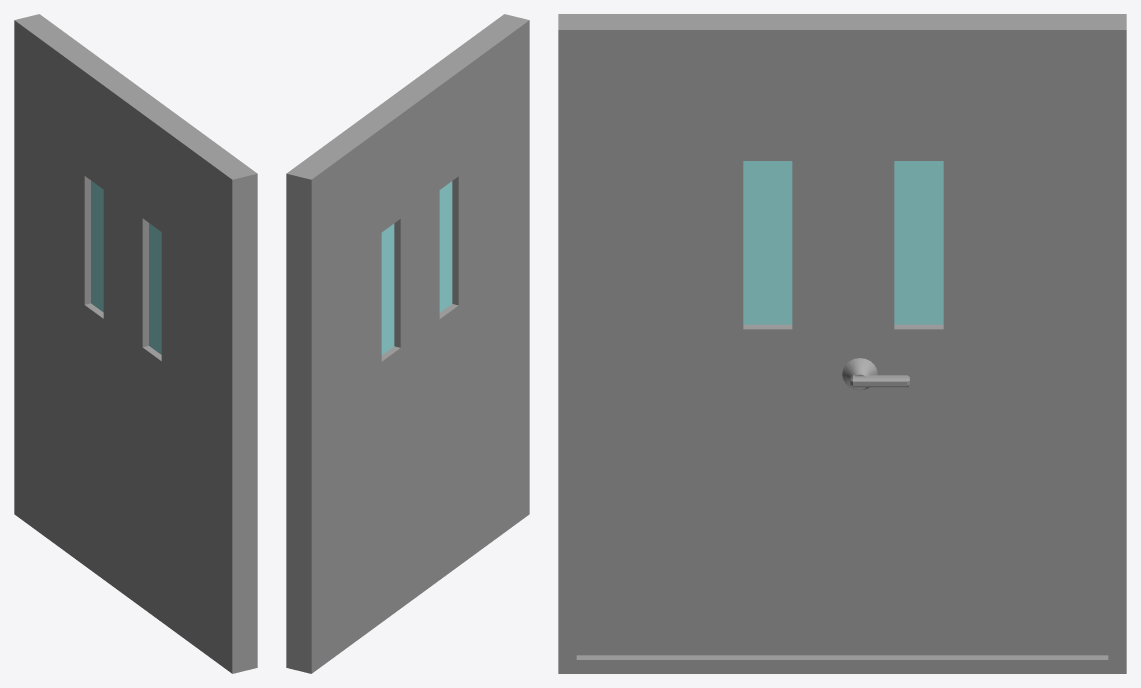
Rendered from Industrial door.fbx.
3 renders of one model, left to right at view 1: azimuth 30°, elevation 25°; view 2: azimuth 150°, elevation 25°; view 3: azimuth 270°, elevation 25°, orthographic. The views are drawn at different scales.
Parts seen in each view (by area): view 1: polySurface2, pCube1; view 2: polySurface2, pCube1; view 3: polySurface2, pCube1, polySurface4.
Part boxes in pixels (x1,y1,x2,y2): polySurface2: [14, 14, 257, 673]; pCube1: [91, 180, 161, 354]; polySurface2: [286, 14, 529, 673]; pCube1: [381, 181, 452, 354]; polySurface2: [558, 14, 1126, 673]; pCube1: [743, 161, 943, 324]; polySurface4: [842, 358, 909, 390].
Size of the model in its own units: 0.4531 by 6.13 by 4.9.
